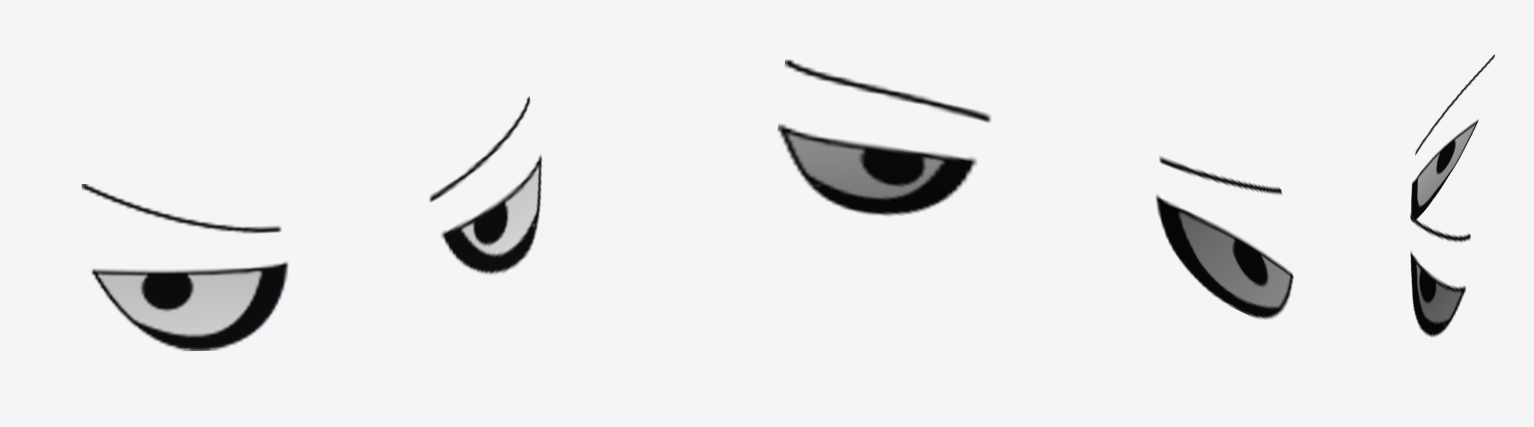
File: Bruised.gltf
3 renders of one model, left to right at view 1: azimuth 30°, elevation 25°; view 2: azimuth 150°, elevation 25°; view 3: azimuth 270°, elevation 25°, orthographic. The views are drawn at different scales.
Parts seen in each view (by area): view 1: eyes9; view 2: eyes9; view 3: eyes9.
Boxes of the visible parts, box(x1,y1,x2,y2) form: eyes9: box(81, 96, 542, 351); eyes9: box(777, 60, 1293, 319); eyes9: box(1410, 54, 1494, 337).
Size of the model in its own units: 6.44 by 2.52 by 1.45.
Materials: 1 (1 with a texture image).
